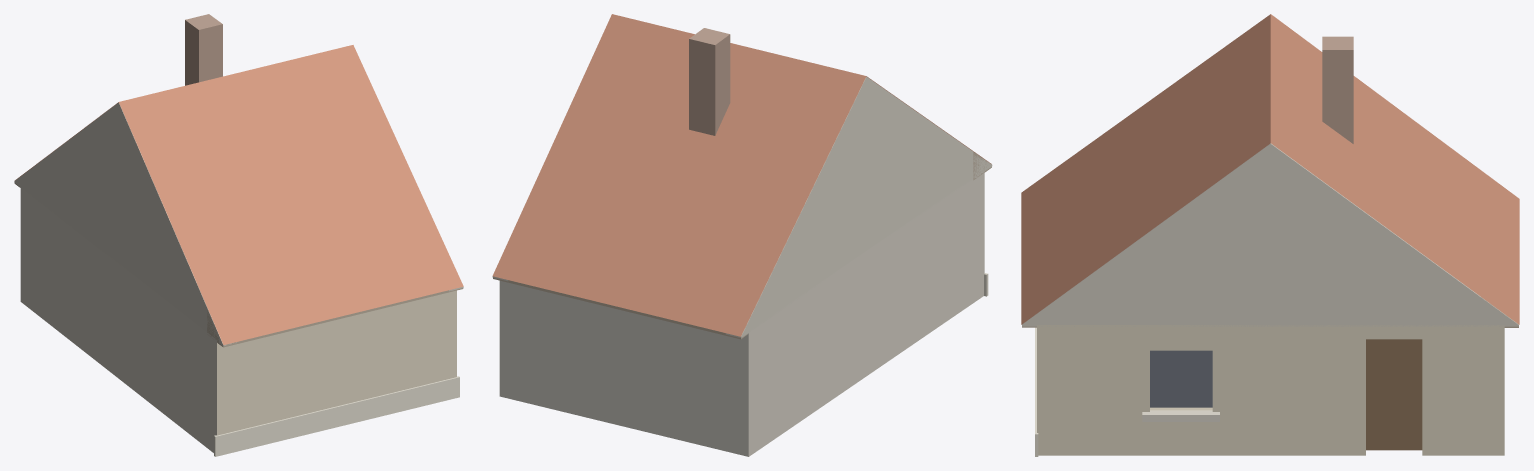
3 views of the same model, side by side, from view 1: azimuth 30°, elevation 25°; view 2: azimuth 150°, elevation 25°; view 3: azimuth 270°, elevation 25° (orthographic). The views are drawn at different scales.
Parts seen in each view (by area): view 1: CP_417_Roof, CP_417_Masonry, CP_417_Gable_L_gable, CP_417_Cornice_plinth_0, CP_417_Chimney_0, CP_417_Roof_EaveClosure_0; view 2: CP_417_Roof, CP_417_Masonry, CP_417_Gable_L_gable, CP_417_Chimney_0, CP_417_Roof_EaveClosure_1; view 3: CP_417_Roof, CP_417_Masonry, CP_417_Gable_R_gable, CP_417_Chimney_0, CP_417_Sill_street_ne_S_W1.
Part boxes in pixels (left/top/right/bottom): CP_417_Roof: left=14, top=45, right=463, bottom=344; CP_417_Masonry: left=20, top=186, right=456, bottom=452; CP_417_Gable_L_gable: left=14, top=102, right=236, bottom=346; CP_417_Cornice_plinth_0: left=214, top=376, right=459, bottom=456; CP_417_Chimney_0: left=185, top=14, right=222, bottom=85; CP_417_Roof_EaveClosure_0: left=207, top=288, right=463, bottom=347; CP_417_Roof: left=492, top=14, right=991, bottom=336; CP_417_Masonry: left=499, top=171, right=984, bottom=456; CP_417_Gable_L_gable: left=725, top=77, right=992, bottom=337; CP_417_Chimney_0: left=689, top=28, right=730, bottom=135; CP_417_Roof_EaveClosure_1: left=493, top=277, right=747, bottom=339; CP_417_Roof: left=1021, top=14, right=1519, bottom=324; CP_417_Masonry: left=1037, top=325, right=1504, bottom=455; CP_417_Gable_R_gable: left=1022, top=143, right=1518, bottom=326; CP_417_Chimney_0: left=1322, top=36, right=1353, bottom=143; CP_417_Sill_street_ne_S_W1: left=1142, top=410, right=1219, bottom=421.
Size of the model in its own units: 5.16 by 6.1 by 7.95.
